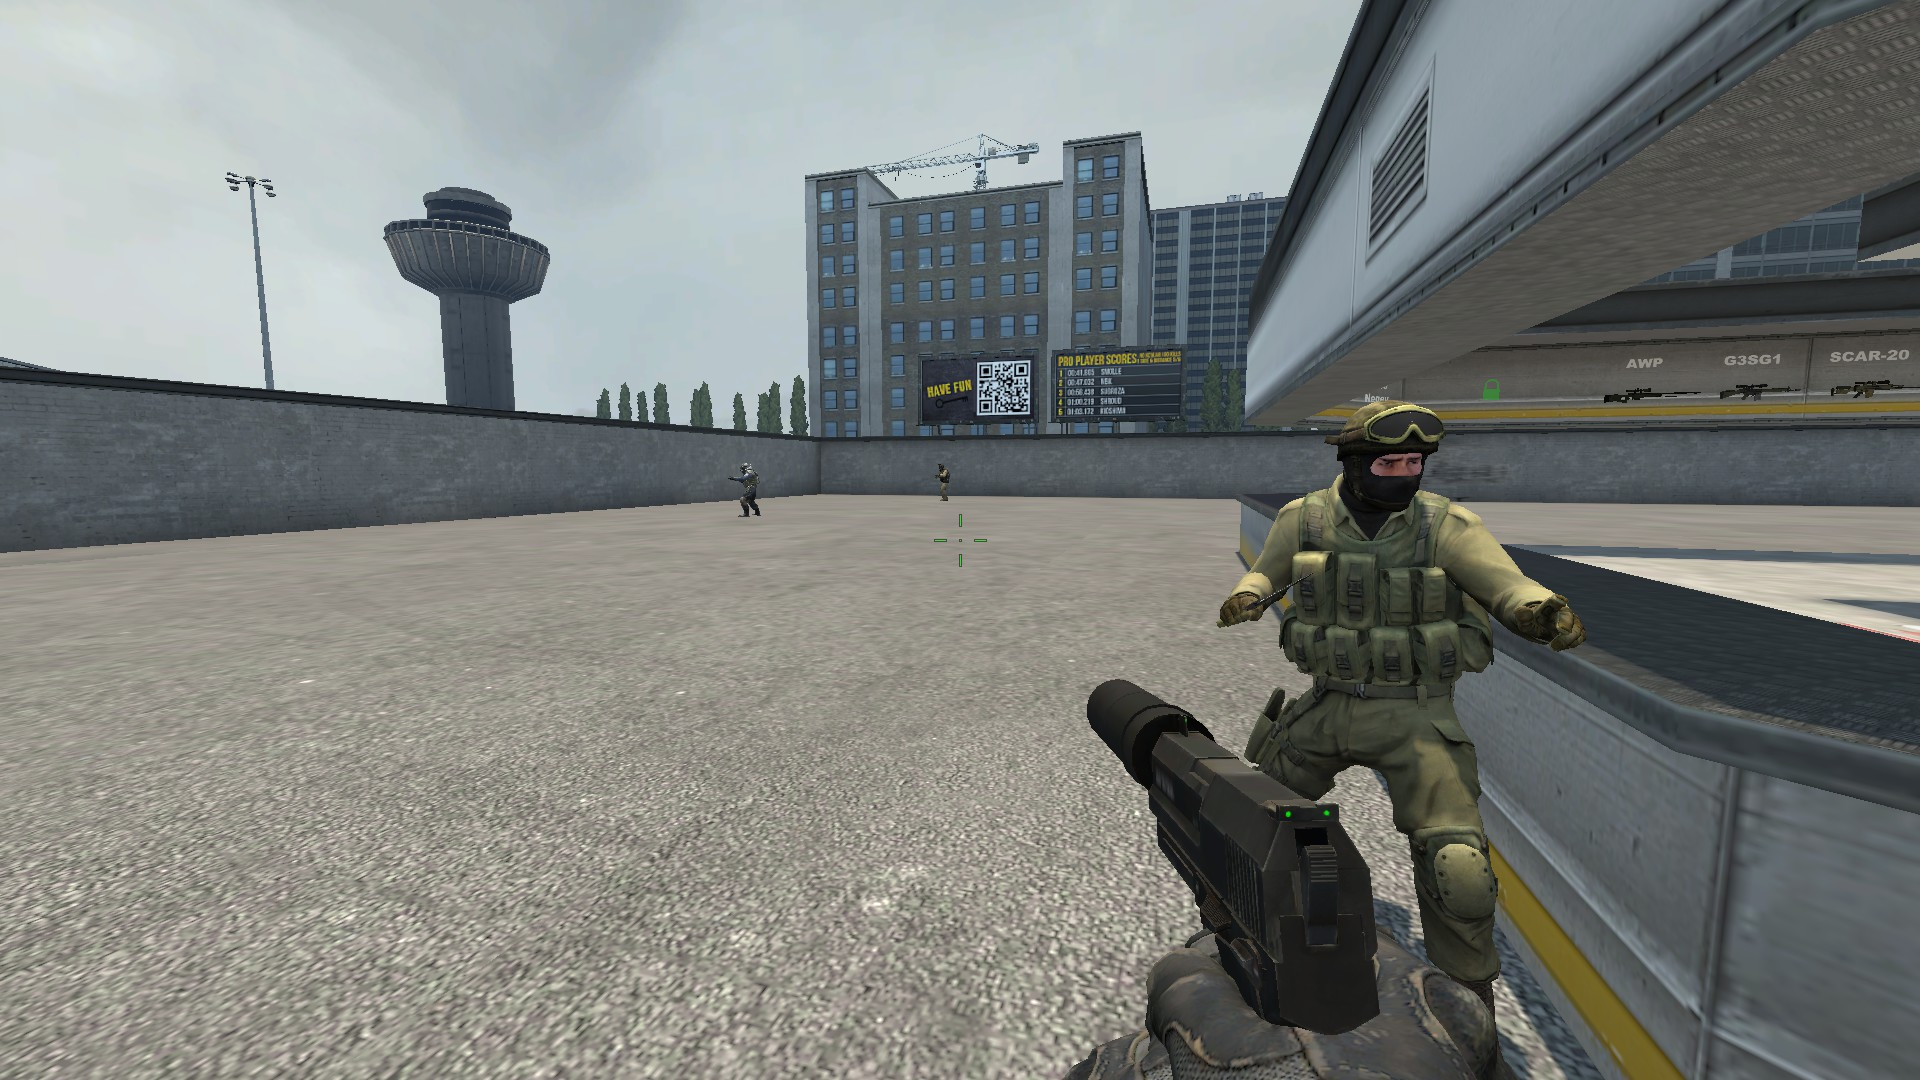ct: (1215, 396, 1590, 1050)
ct head: (1325, 398, 1447, 517)
